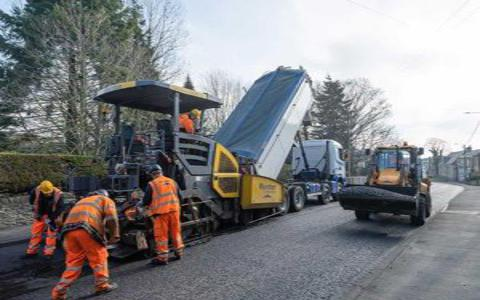Proper road: (232, 227, 372, 297)
